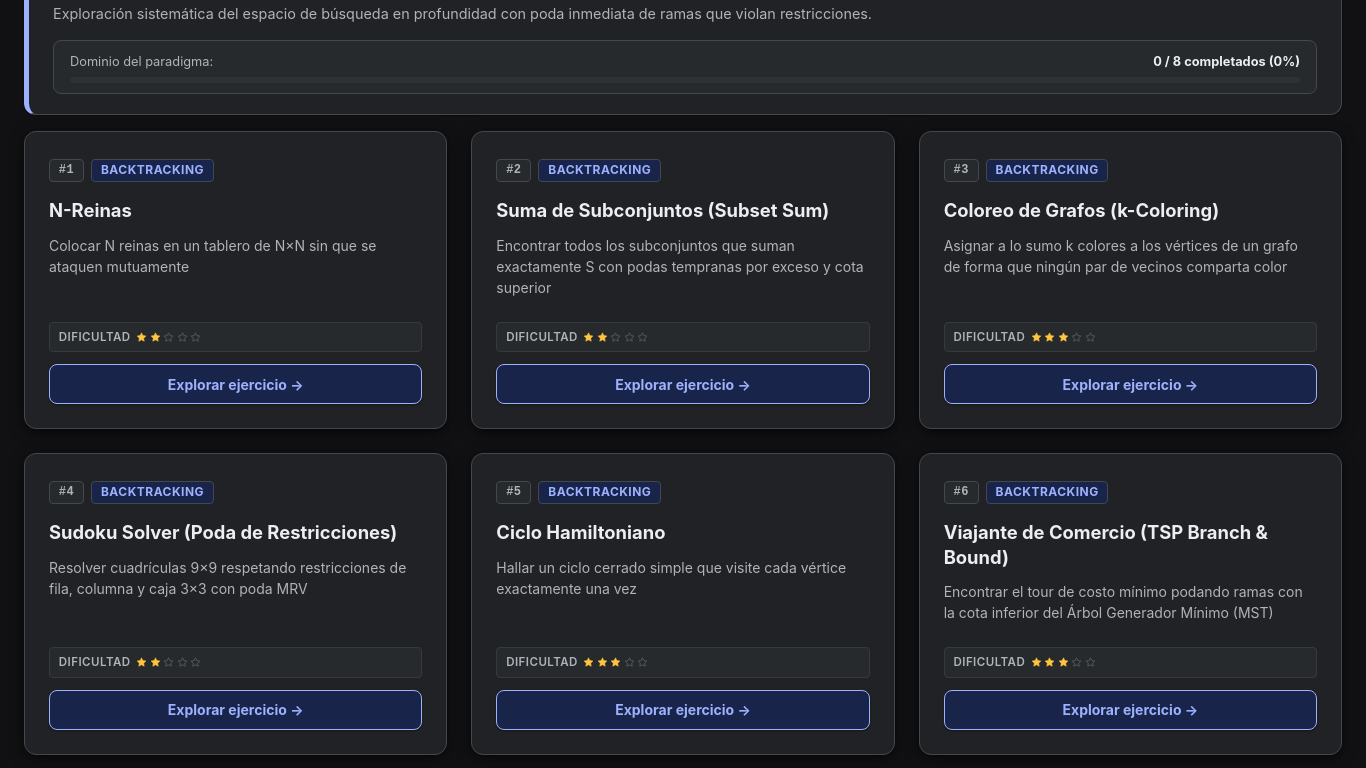
Scenario: Phase D: Browser / User Journey Integration Verification (15 Core Flows) › Flow 10: Progressive hints reveal sequentially after required effort without penalty
(page scrolled)
Click the button with class "btn-open-exercise" below "N-Reinas" at (236, 384), box [49,364,422,404]
(page scrolled)
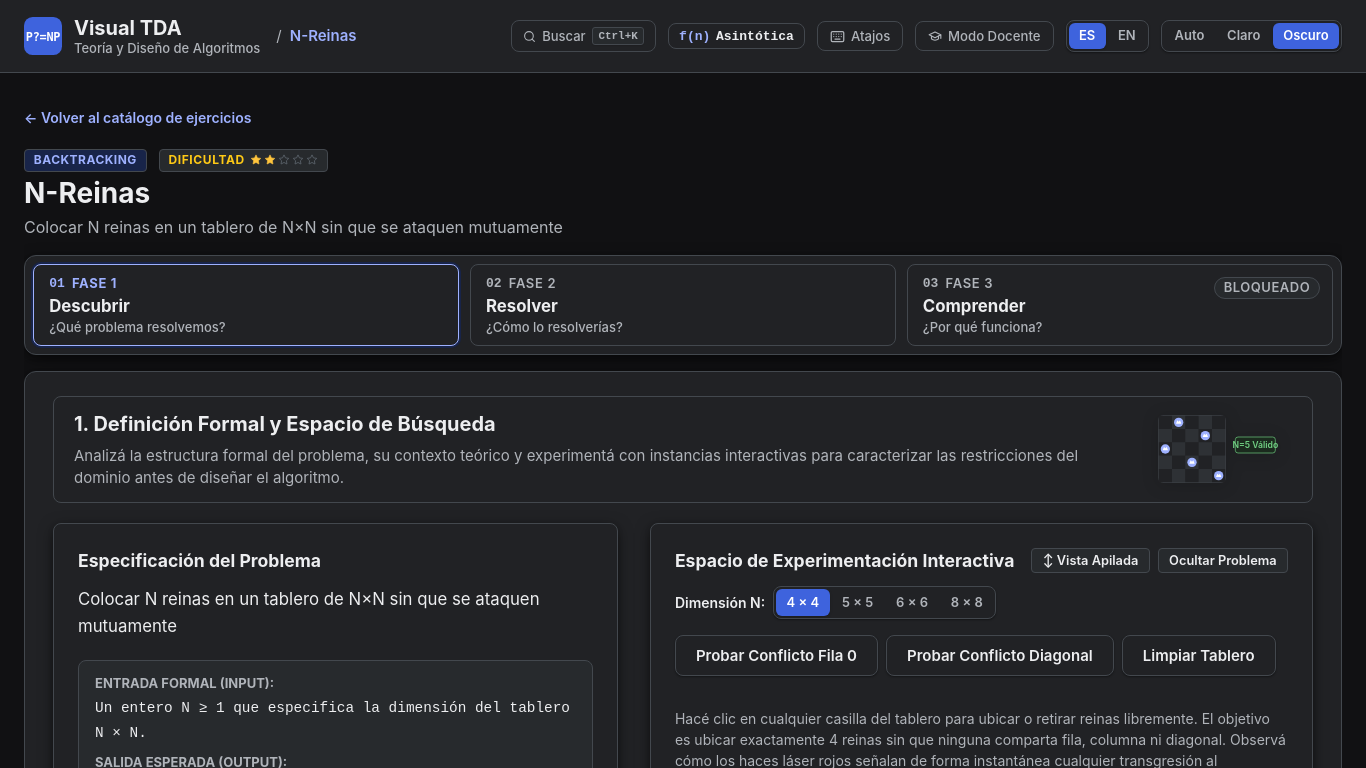
Click the tab "02 Fase 2 Resolver ¿Cómo lo resolverías?" at (532, 283), box [470,264,896,346]
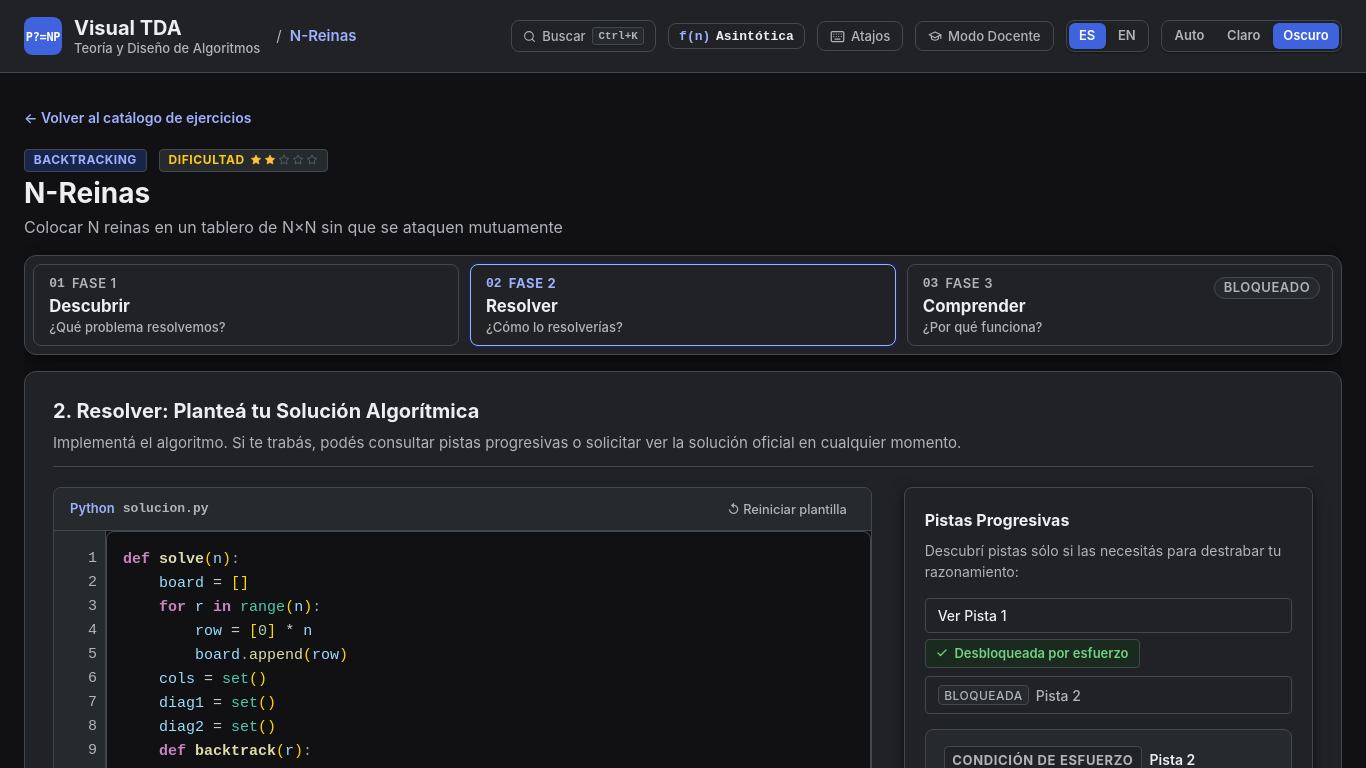
Expected: the button with class "btn-toggle-hint" showing "Ver Pista 1" is shown
Click the button with class "btn-toggle-hint" showing "Ver Pista 1" at (972, 616), box [925,598,1292,633]
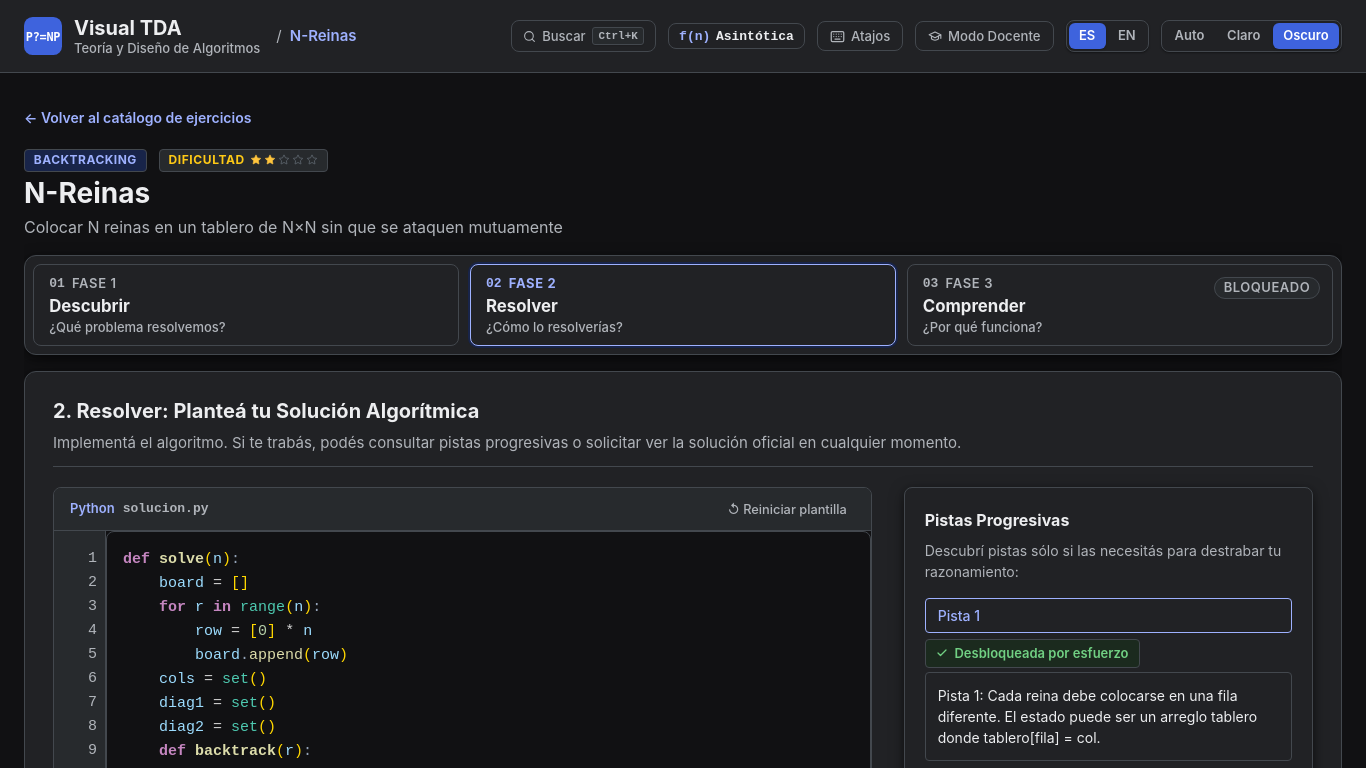
Expected: the text with class "hint-content" is shown, [925,672,1292,761]
